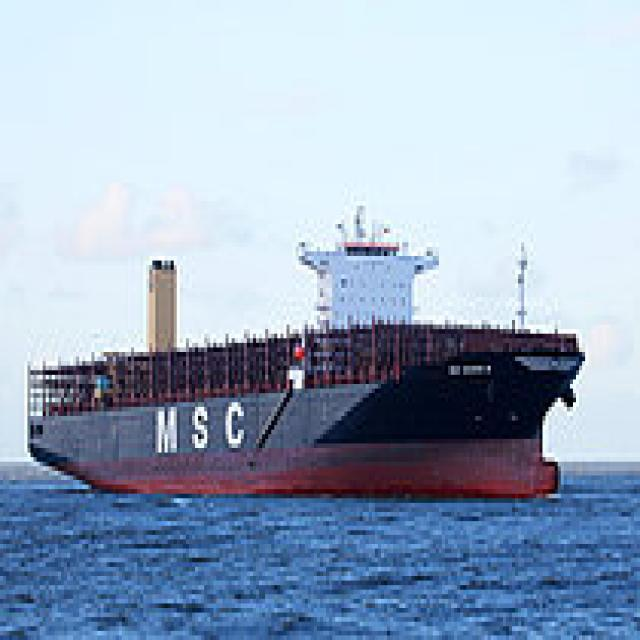Ship: (26, 280, 596, 509)
